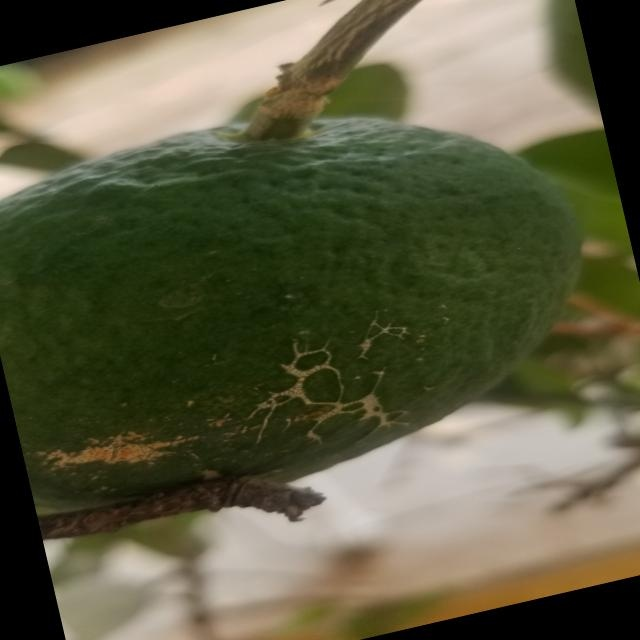agrume: (0, 39, 623, 545)
